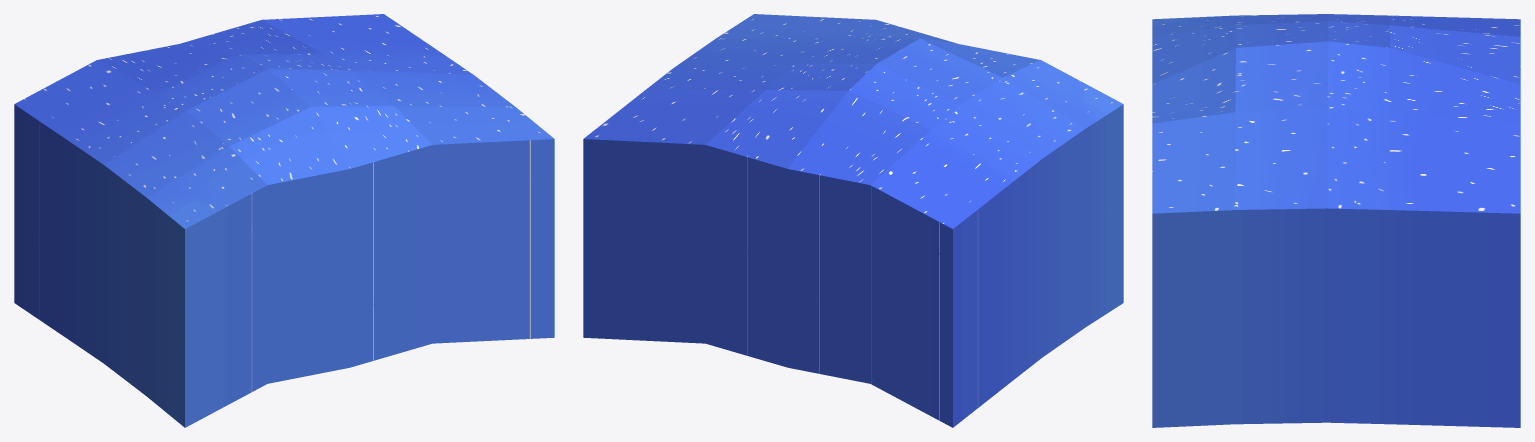
File: Week_5.glb
3 views of the same model, side by side, from view 1: azimuth 30°, elevation 25°; view 2: azimuth 150°, elevation 25°; view 3: azimuth 270°, elevation 25° (orthographic). The views are drawn at different scales.
Visible parts, largest first — view 1: Skybox; view 2: Skybox; view 3: Skybox.
Boxes of the visible parts, x1,y1,x2,y2 form: Skybox: (14,14,554,427); Skybox: (583,14,1123,427); Skybox: (1152,14,1520,427).
Bounding box in the file's own units: 135 × 90.07 × 108.
Materials: 7 (7 with a texture image).
